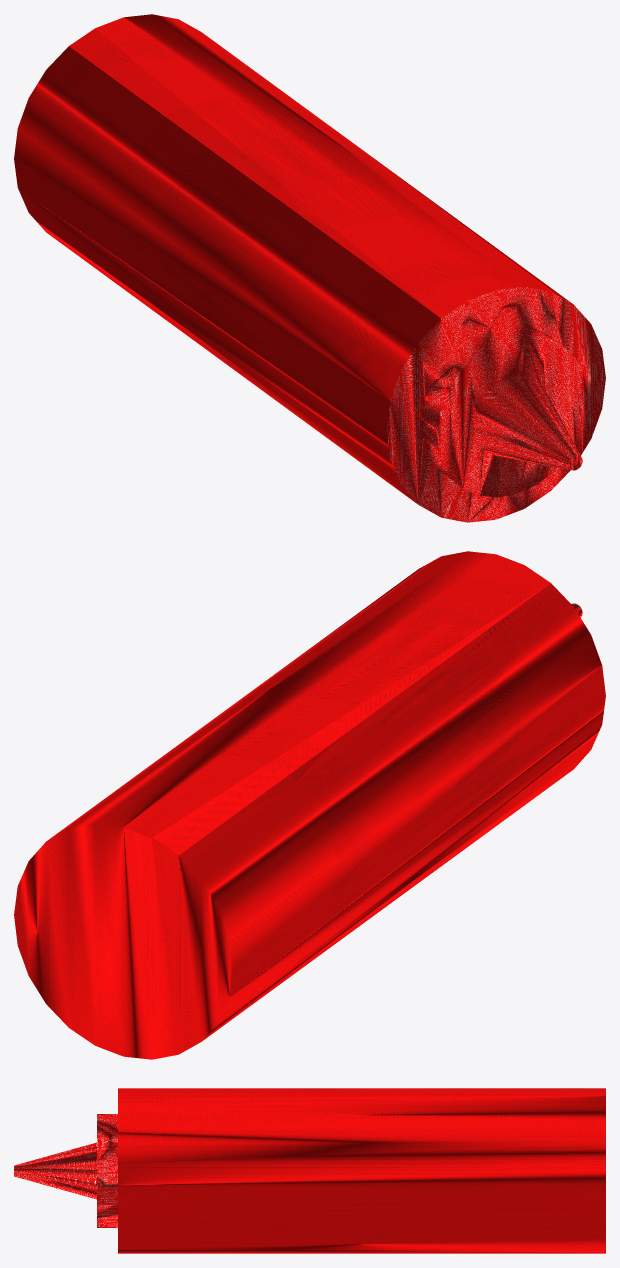
The model's file is model_align.obj.
3 renders of one model, top to bottom at view 1: azimuth 30°, elevation 25°; view 2: azimuth 150°, elevation 25°; view 3: azimuth 270°, elevation 25°, orthographic. The views are drawn at different scales.
Size of the model in its own units: 0.0663 by 0.0663 by 0.2362.
